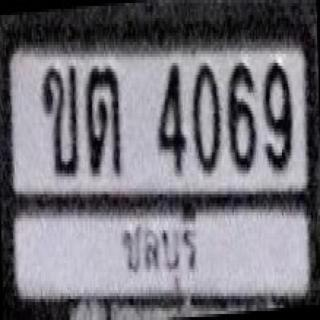A02: (39, 60, 83, 178)
A21: (84, 63, 126, 177)
N00: (188, 62, 221, 175)
N04: (150, 61, 189, 177)
N06: (220, 57, 260, 173)
N09: (260, 58, 303, 176)
P13: (114, 210, 204, 291)
